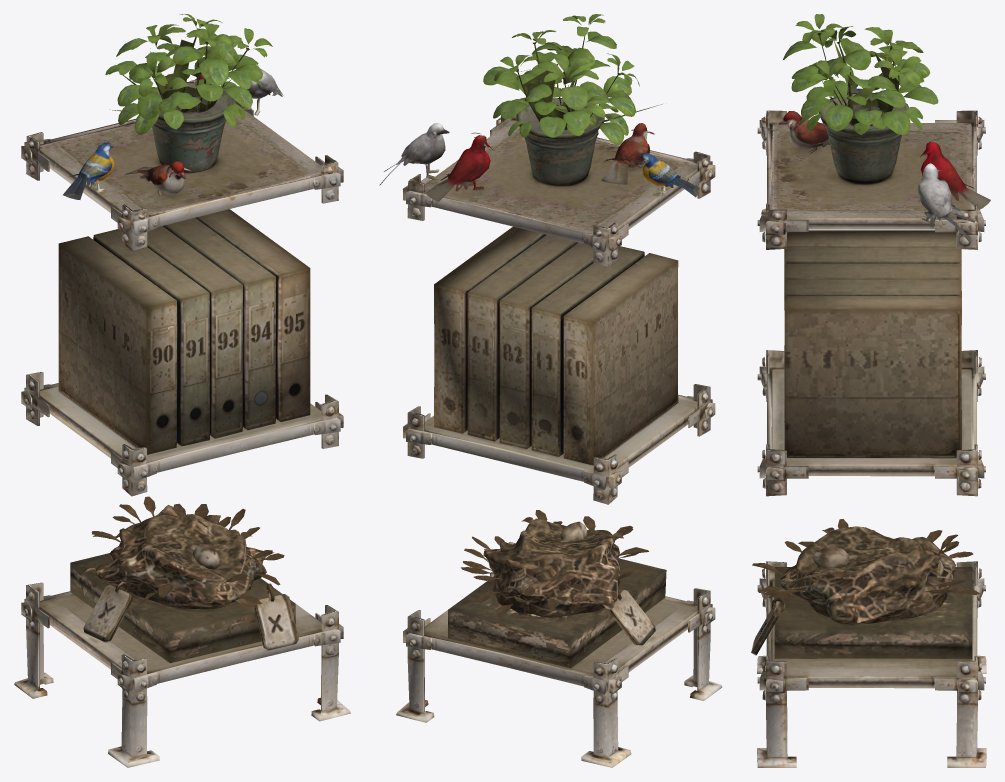
File: metal_shelf_3d_model.fbx
The picture shows the model from 3 angles, left to right: view 1: azimuth 30°, elevation 25°; view 2: azimuth 150°, elevation 25°; view 3: azimuth 270°, elevation 25°; orthographic projection. The views are drawn at different scales.
Parts seen in each view (by area): view 1: tripo_524799f9_0191_448b_93ce_0229ee5871f4; view 2: tripo_524799f9_0191_448b_93ce_0229ee5871f4; view 3: tripo_524799f9_0191_448b_93ce_0229ee5871f4.
Part boxes in pixels (left/top/right/bottom): tripo_524799f9_0191_448b_93ce_0229ee5871f4: left=14, top=14, right=350, bottom=767; tripo_524799f9_0191_448b_93ce_0229ee5871f4: left=379, top=14, right=722, bottom=767; tripo_524799f9_0191_448b_93ce_0229ee5871f4: left=751, top=14, right=990, bottom=767.
Bounding box in the file's own units: 0.4067 × 0.9995 × 0.3149.
1 material, 1 textured.
